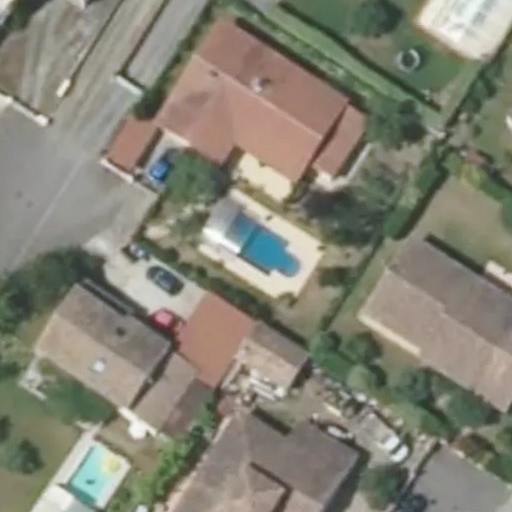pool: (208, 243, 314, 252)
